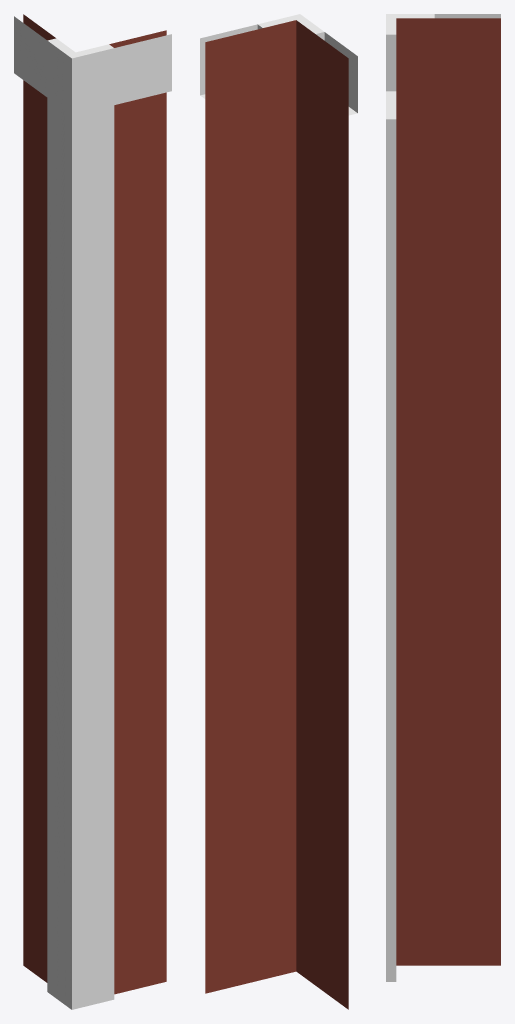
The model's file is mid-c1.fbx.
3 views of the same model, side by side, from view 1: azimuth 30°, elevation 25°; view 2: azimuth 210°, elevation 25°; view 3: azimuth 270°, elevation 25° (orthographic).
Parts seen in each view (by area): view 1: a2015/600/mid-c1; view 2: a2015/600/mid-c1; view 3: a2015/600/mid-c1.
Part boxes in pixels (bbox=[...]): a2015/600/mid-c1: bbox=[14, 14, 171, 1009]; a2015/600/mid-c1: bbox=[200, 14, 357, 1009]; a2015/600/mid-c1: bbox=[386, 14, 500, 981].
Size of the model in its own units: 0.33 by 3 by 0.33.
